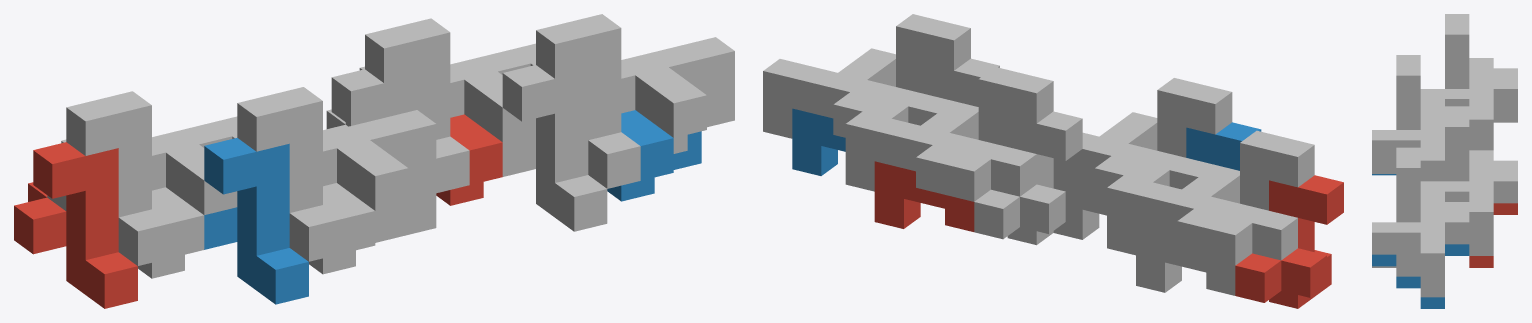
File: tiling.obj
The picture shows the model from 3 angles, left to right: view 1: azimuth 30°, elevation 25°; view 2: azimuth 150°, elevation 25°; view 3: azimuth 270°, elevation 25°; orthographic projection. The views are drawn at different scales.
Visible parts, largest first — view 1: copy_1_domain_1, copy_1_domain_6, copy_1_domain_2, copy_1_domain_3, copy_2_domain_4, copy_2_domain_8, copy_1_domain_8, copy_1_domain_4, copy_1_domain_7, copy_1_domain_5, copy_2_domain_3, copy_2_domain_7 (+4 smaller); view 2: copy_1_domain_7, copy_1_domain_3, copy_2_domain_7, copy_2_domain_3, copy_1_domain_1, copy_1_domain_5, copy_2_domain_8, copy_1_domain_4, copy_1_domain_8, copy_2_domain_4, copy_2_domain_5, copy_2_domain_1 (+4 smaller); view 3: copy_2_domain_8, copy_2_domain_7, copy_2_domain_3, copy_2_domain_4, copy_1_domain_7, copy_1_domain_8, copy_1_domain_3, copy_1_domain_4, copy_2_domain_6, copy_2_domain_5, copy_2_domain_1, copy_2_domain_2.
Part boxes in pixels (bbox=[...]): copy_1_domain_1: bbox=[14, 142, 137, 308]; copy_1_domain_6: bbox=[502, 65, 607, 231]; copy_1_domain_2: bbox=[204, 138, 308, 304]; copy_1_domain_3: bbox=[47, 91, 170, 265]; copy_2_domain_4: bbox=[323, 110, 436, 226]; copy_2_domain_8: bbox=[621, 37, 734, 153]; copy_1_domain_8: bbox=[530, 14, 640, 188]; copy_1_domain_4: bbox=[232, 87, 341, 261]; copy_1_domain_7: bbox=[345, 18, 469, 193]; copy_1_domain_5: bbox=[323, 69, 436, 235]; copy_2_domain_3: bbox=[152, 116, 237, 215]; copy_2_domain_7: bbox=[450, 43, 535, 142]; copy_1_domain_7: bbox=[945, 67, 1053, 201]; copy_1_domain_3: bbox=[1206, 130, 1314, 265]; copy_2_domain_7: bbox=[845, 101, 978, 194]; copy_2_domain_3: bbox=[1107, 165, 1239, 258]; copy_1_domain_1: bbox=[1235, 175, 1343, 308]; copy_1_domain_5: bbox=[974, 111, 1082, 245]; copy_2_domain_8: bbox=[763, 48, 895, 138]; copy_1_domain_4: bbox=[1124, 78, 1232, 189]; copy_1_domain_8: bbox=[863, 14, 970, 125]; copy_2_domain_4: bbox=[1053, 112, 1157, 201]; copy_2_domain_5: bbox=[874, 161, 974, 231]; copy_2_domain_1: bbox=[1136, 225, 1235, 295]; copy_2_domain_8: bbox=[1372, 212, 1469, 297]; copy_2_domain_7: bbox=[1420, 171, 1517, 255]; copy_2_domain_3: bbox=[1420, 78, 1517, 150]; copy_2_domain_4: bbox=[1372, 119, 1444, 181]; copy_1_domain_7: bbox=[1445, 106, 1517, 181]; copy_1_domain_8: bbox=[1396, 147, 1469, 222]; copy_1_domain_3: bbox=[1445, 14, 1517, 88]; copy_1_domain_4: bbox=[1396, 55, 1444, 129]; copy_2_domain_6: bbox=[1372, 244, 1469, 308]; copy_2_domain_5: bbox=[1469, 203, 1517, 267]; copy_2_domain_1: bbox=[1493, 111, 1517, 122]; copy_2_domain_2: bbox=[1372, 162, 1396, 173].
Bounding box in the file's own units: 20 × 5 × 6.
